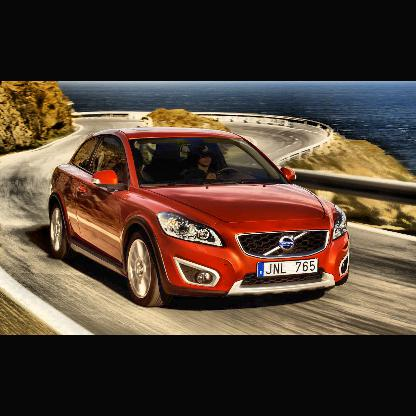Volvo C30 Hatchback 2012: (45, 122, 353, 311)
